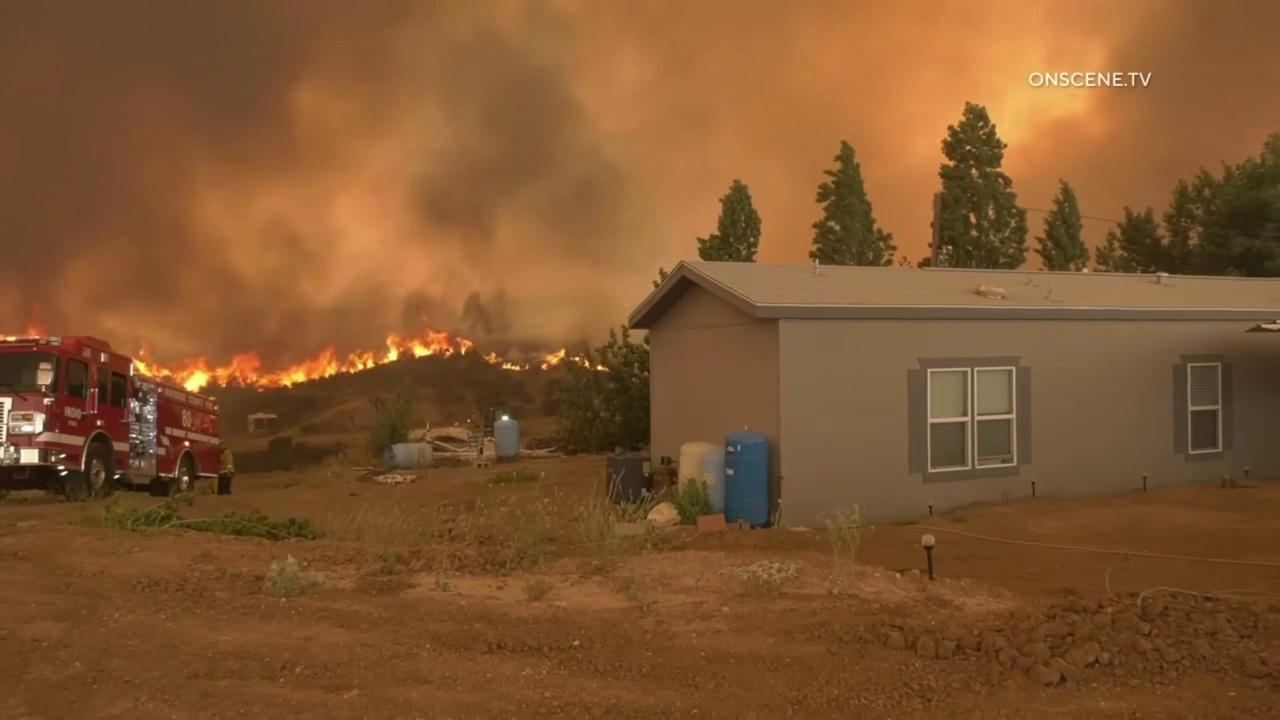fire: (128, 324, 472, 395), (21, 300, 51, 337), (481, 351, 531, 370), (567, 354, 611, 372), (541, 346, 567, 371)
smoke: (0, 0, 1280, 370)
